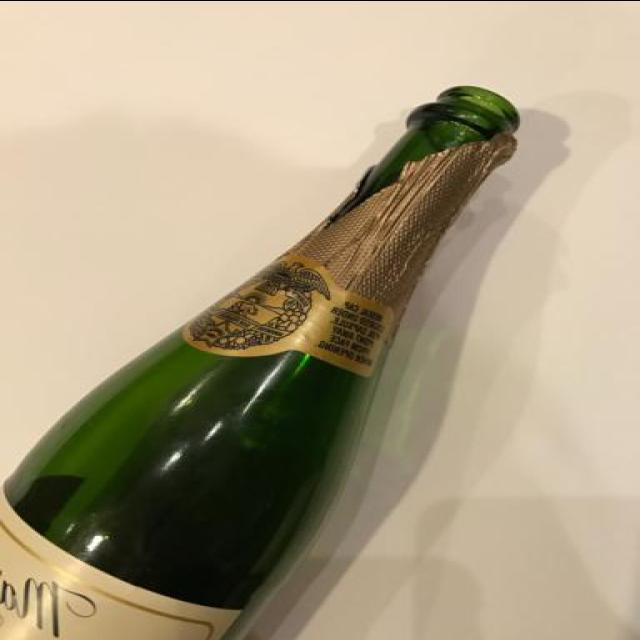glass: (0, 44, 545, 640)
